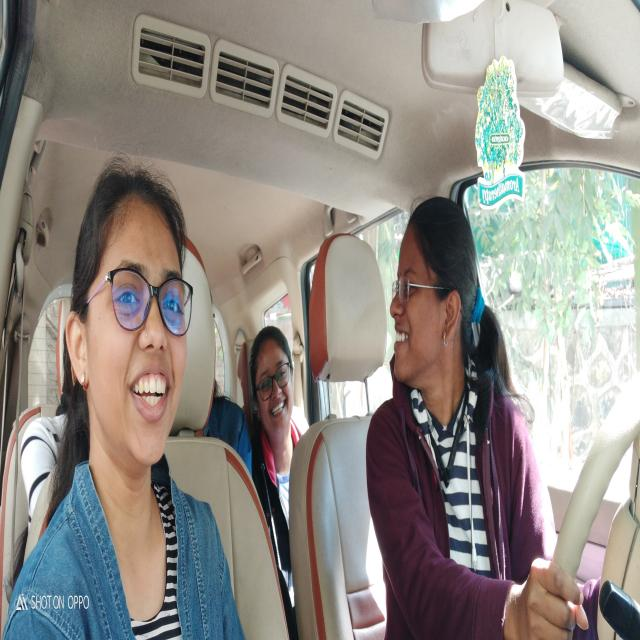LeftRight: (388, 190, 484, 390)
person: (63, 166, 191, 472), (249, 325, 297, 447)
talking: (391, 322, 411, 355)
